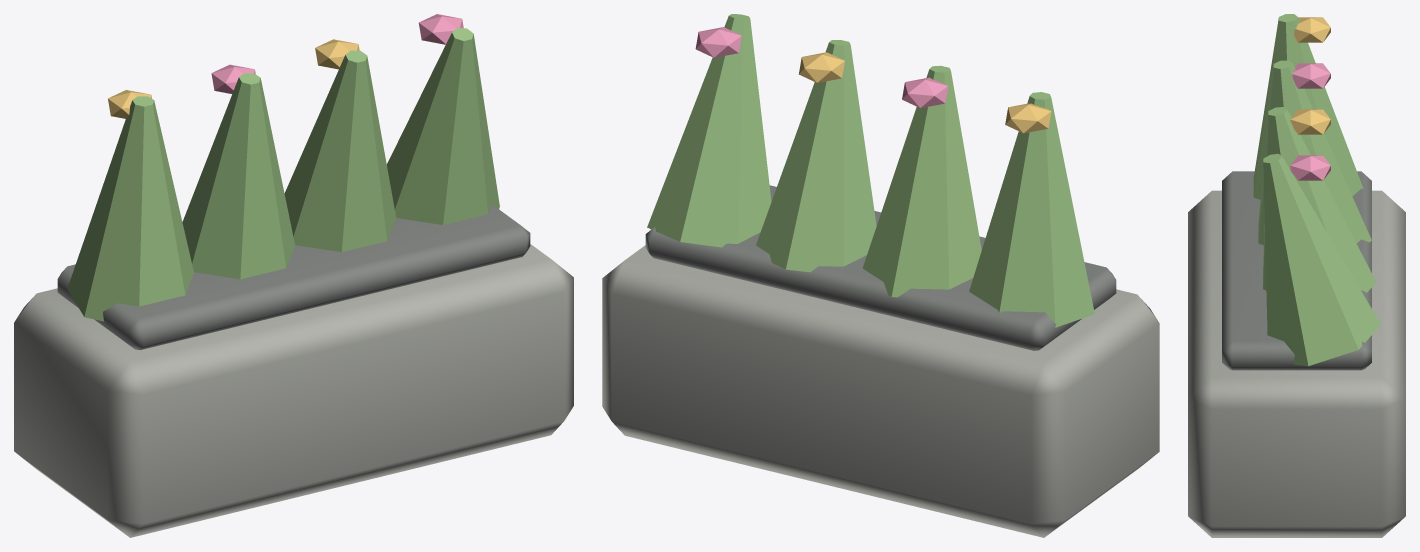
File: MYB96_StoneFlowerPlanter.fbx
3 renders of one model, left to right at view 1: azimuth 30°, elevation 25°; view 2: azimuth 150°, elevation 25°; view 3: azimuth 270°, elevation 25°, orthographic. The views are drawn at different scales.
Visible parts, largest first — view 1: stone_trough, soil_inset, plant_leaf_0, plant_leaf_1, plant_leaf_2, plant_leaf_3, planter_flower_3, planter_flower_2, planter_flower_1, planter_flower_0; view 2: stone_trough, plant_leaf_3, plant_leaf_2, plant_leaf_0, plant_leaf_1, soil_inset, planter_flower_2, planter_flower_3, planter_flower_1, planter_flower_0; view 3: stone_trough, plant_leaf_3, soil_inset, plant_leaf_2, plant_leaf_0, plant_leaf_1, planter_flower_3, planter_flower_2, planter_flower_1, planter_flower_0.
Part boxes in pixels (<box>): stone_trough: <box>14,244,573,537</box>; soil_inset: <box>57,204,530,350</box>; plant_leaf_0: <box>67,96,193,321</box>; plant_leaf_1: <box>182,73,295,279</box>; plant_leaf_2: <box>284,50,396,252</box>; plant_leaf_3: <box>387,28,499,224</box>; planter_flower_3: <box>418,14,463,44</box>; planter_flower_2: <box>315,39,359,69</box>; planter_flower_1: <box>211,64,255,93</box>; planter_flower_0: <box>108,90,151,118</box>; stone_trough: <box>602,245,1159,537</box>; plant_leaf_3: <box>647,14,771,247</box>; plant_leaf_2: <box>756,40,876,272</box>; plant_leaf_0: <box>969,92,1094,327</box>; plant_leaf_1: <box>862,65,981,297</box>; soil_inset: <box>645,185,1116,350</box>; planter_flower_2: <box>798,52,844,82</box>; planter_flower_3: <box>695,27,741,57</box>; planter_flower_1: <box>902,77,948,108</box>; planter_flower_0: <box>1005,103,1051,133</box>; stone_trough: <box>1188,190,1405,537</box>; plant_leaf_3: <box>1263,153,1380,366</box>; soil_inset: <box>1222,171,1371,370</box>; plant_leaf_2: <box>1263,107,1376,292</box>; plant_leaf_0: <box>1253,14,1363,199</box>; plant_leaf_1: <box>1258,60,1371,245</box>; planter_flower_3: <box>1290,155,1330,180</box>; planter_flower_2: <box>1290,109,1330,134</box>; planter_flower_1: <box>1292,63,1330,88</box>; planter_flower_0: <box>1294,17,1330,42</box>.
Size of the model in its own units: 72 by 58.07 by 32.
